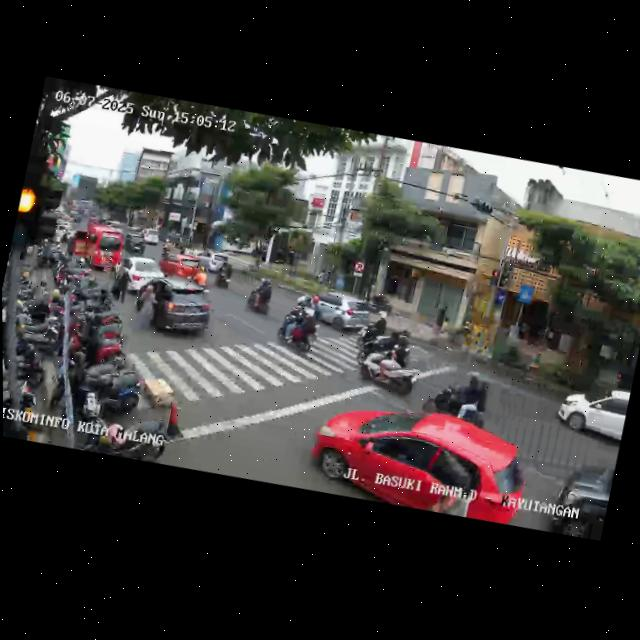car: (302, 384, 535, 533), (548, 451, 616, 541), (552, 379, 630, 453), (291, 281, 383, 340), (142, 276, 216, 347), (64, 219, 125, 276), (110, 250, 167, 300), (156, 249, 202, 289), (191, 246, 229, 276), (122, 227, 148, 255), (136, 226, 162, 247)
motorcycle: (350, 323, 428, 401), (421, 360, 497, 430), (354, 305, 414, 356), (273, 302, 324, 357), (242, 273, 277, 321), (284, 289, 326, 328), (184, 262, 214, 296), (213, 257, 239, 291)
person: (133, 283, 157, 335), (108, 261, 135, 305)
